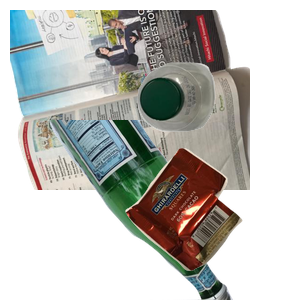glass: (37, 120, 262, 300)
paper: (10, 10, 250, 190)
plastic: (135, 60, 300, 184)
trash: (123, 145, 300, 300)
